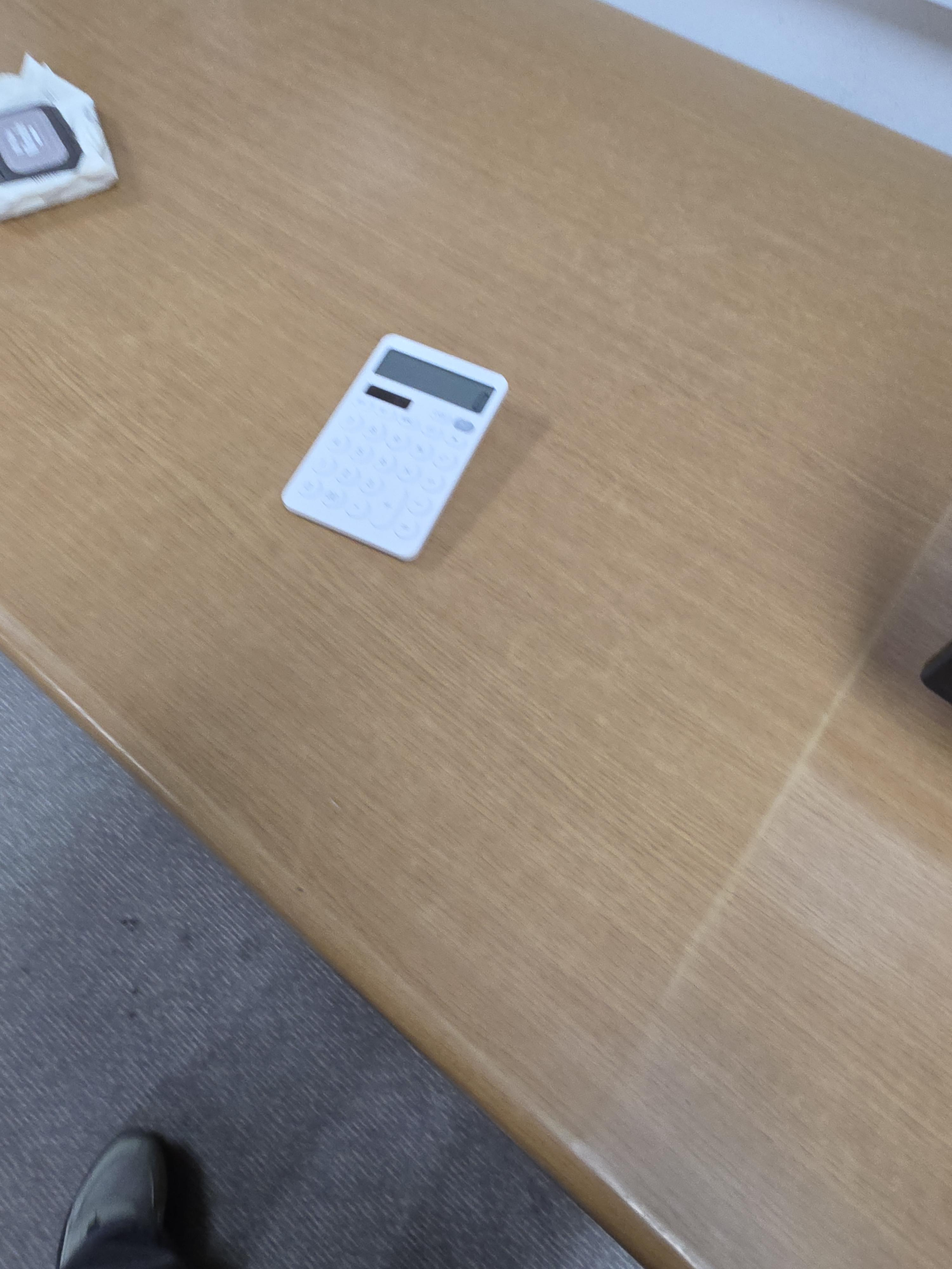calculator: (281, 333, 509, 561)
tissue: (0, 51, 118, 222)
